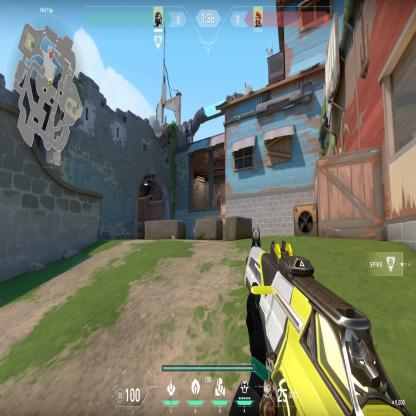enemy: (216, 186, 221, 206)
